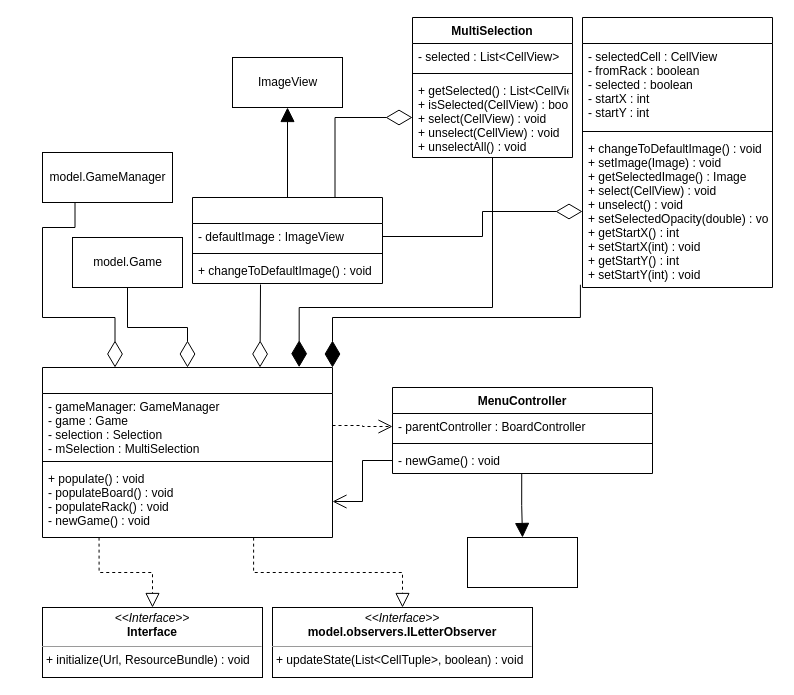
This 794x695 diagram has some shape labels left out. The box of each missing label's shape, as (x1, y1, x2, y2) in pixels:
AnchorPane: (466, 536, 578, 588)
BoardController: (42, 366, 332, 538)
CellView: (192, 196, 382, 284)
Selection: (582, 16, 772, 288)
